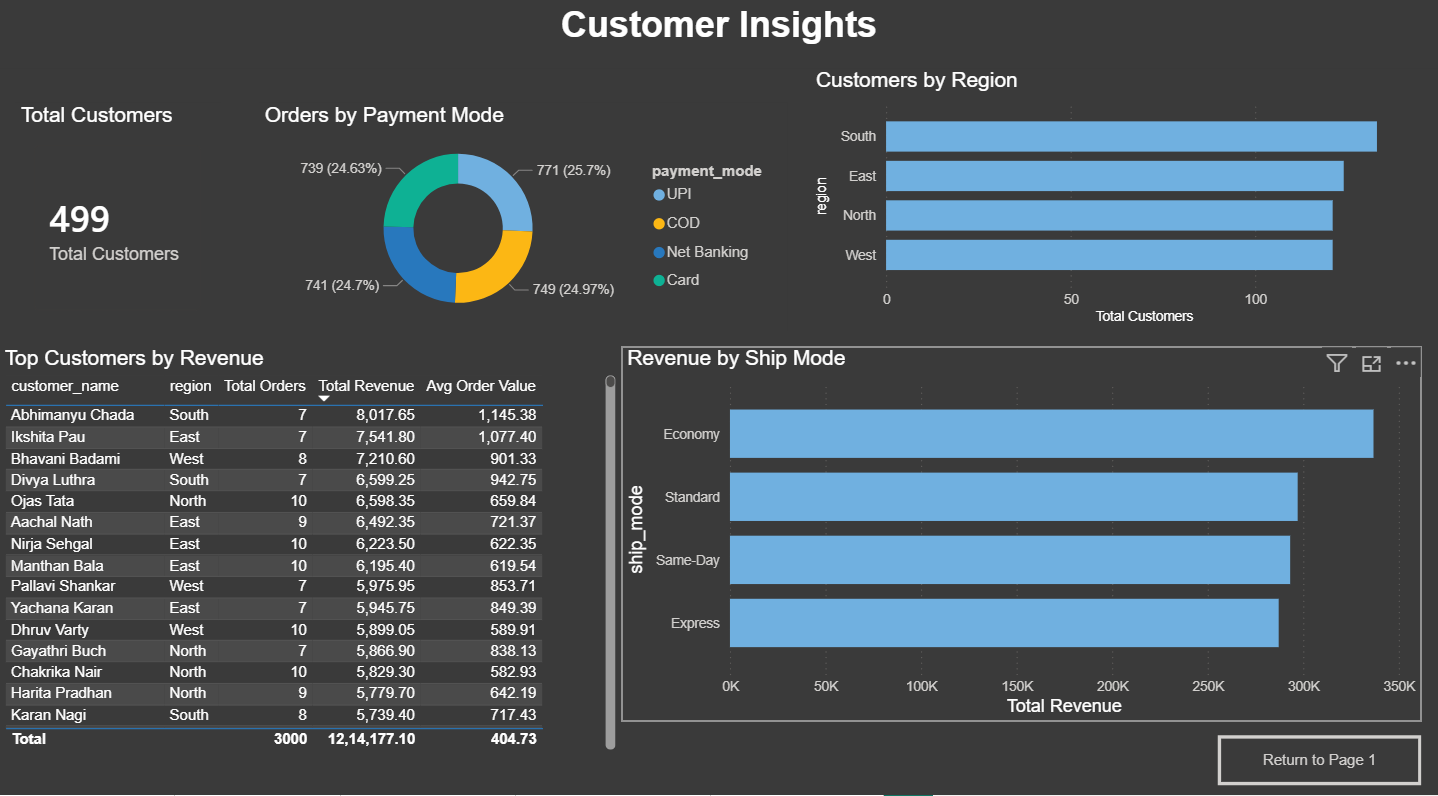

The page's visual inventory and layout, read from the dashboard file:
{"tool":"powerbi","page":{"name":"Customer Insights","canvas":[1280,720],"ordinal":4},"visuals":[{"type":"tableEx","title":"Top Customers by Revenue","fields":{"Values":["retail_db vw_sales_fact.customer_name","retail_db vw_sales_fact.region","_Measures.Total Orders","_Measures.Total Revenue","_Measures.Avg Order Value"]},"box":[0,308.9,553.3,363.3],"z":0},{"type":"donutChart","title":" Orders by Payment Mode","fields":{"Category":["retail_db vw_sales_fact.payment_mode"],"Y":["_Measures.Total Orders"]},"box":[231.6,91.7,469.3,202.7],"z":1000},{"type":"clusteredBarChart","title":"Customers by Region","fields":{"Category":["retail_db vw_sales_fact.region"],"Y":["_Measures.Total Customers"]},"box":[721.5,61.5,542.9,232.8],"z":2000},{"type":"clusteredBarChart","title":"Revenue by Ship Mode","fields":{"Category":["retail_db vw_sales_fact.ship_mode"],"Y":["_Measures.Total Revenue"]},"box":[553.3,308.9,711.1,333.3],"z":3000},{"type":"cardVisual","title":"Total Customers","fields":{"Data":["_Measures.Total Customers"]},"box":[14.5,91.7,182.2,202.7],"z":4000},{"type":"textbox","box":[0,0,1280,61.5],"z":5000},{"type":"actionButton","box":[1083.3,654.4,181.1,44.4],"z":5001}]}

Visuals, with their boxes in screenshot pixels (x1, y1, x2, y2), scaled from the page's 1280x720 canvas onto the 1438x796 screenshot:
"Top Customers by Revenue" tableEx: <region>0, 342, 622, 743</region>
" Orders by Payment Mode" donutChart: <region>260, 101, 787, 325</region>
"Customers by Region" clusteredBarChart: <region>811, 68, 1420, 325</region>
"Revenue by Ship Mode" clusteredBarChart: <region>622, 342, 1420, 710</region>
"Total Customers" cardVisual: <region>16, 101, 221, 325</region>
textbox: <region>0, 0, 1437, 68</region>
actionButton: <region>1217, 723, 1420, 773</region>
